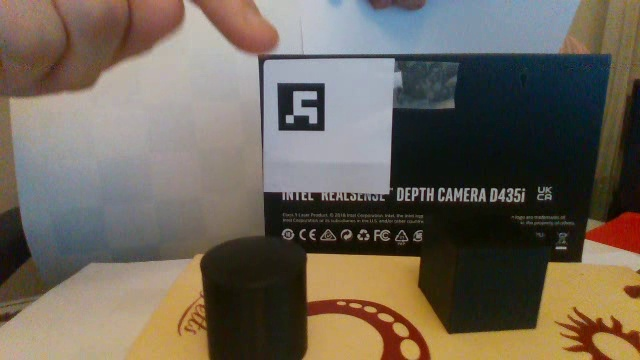cube: (414, 205, 554, 344)
cylindre: (194, 237, 317, 360)
